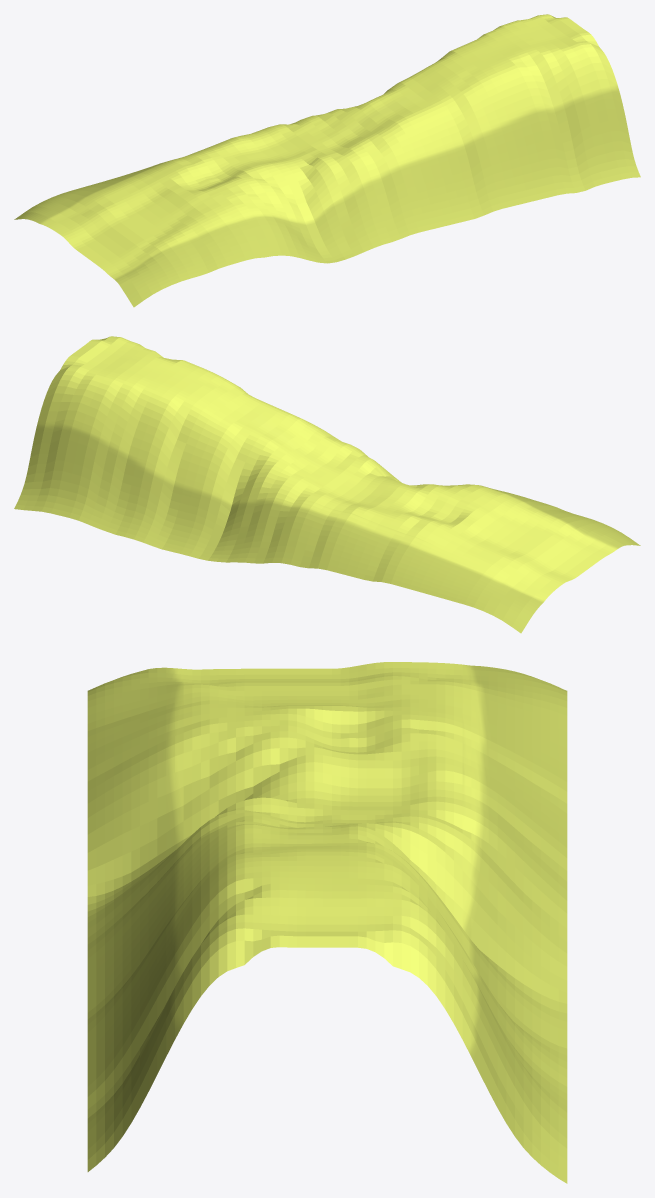
Rendered from montaña_tuto.fbx.
3 views of the same model, one above another, from view 1: azimuth 30°, elevation 25°; view 2: azimuth 150°, elevation 25°; view 3: azimuth 270°, elevation 25° (orthographic). The views are drawn at different scales.
Parts seen in each view (by area): view 1: Plane.001; view 2: Plane.001; view 3: Plane.001.
Part boxes in pixels (bbox=[...]): Plane.001: bbox=[14, 14, 640, 307]; Plane.001: bbox=[14, 336, 640, 633]; Plane.001: bbox=[87, 662, 567, 1183].
Size of the model in its own units: 58793 by 13527 by 24003.
